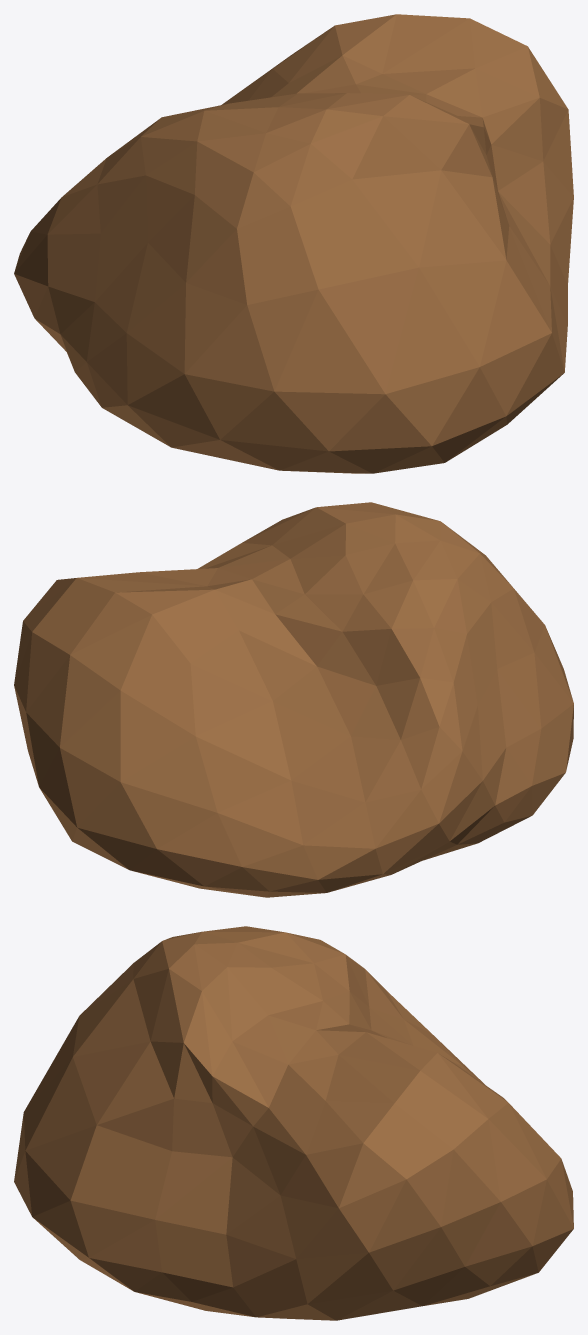
Rendered from stone02.fbx.
3 renders of one model, top to bottom at view 1: azimuth 30°, elevation 25°; view 2: azimuth 150°, elevation 25°; view 3: azimuth 270°, elevation 25°, orthographic. The views are drawn at different scales.
Visible parts, largest first — view 1: Icosphere; view 2: Icosphere; view 3: Icosphere.
Boxes of the visible parts, bbox=[...] form: Icosphere: bbox=[14, 14, 573, 473]; Icosphere: bbox=[14, 502, 573, 897]; Icosphere: bbox=[14, 926, 573, 1320].
Size of the model in its own units: 1.82 by 1.05 by 1.87.
